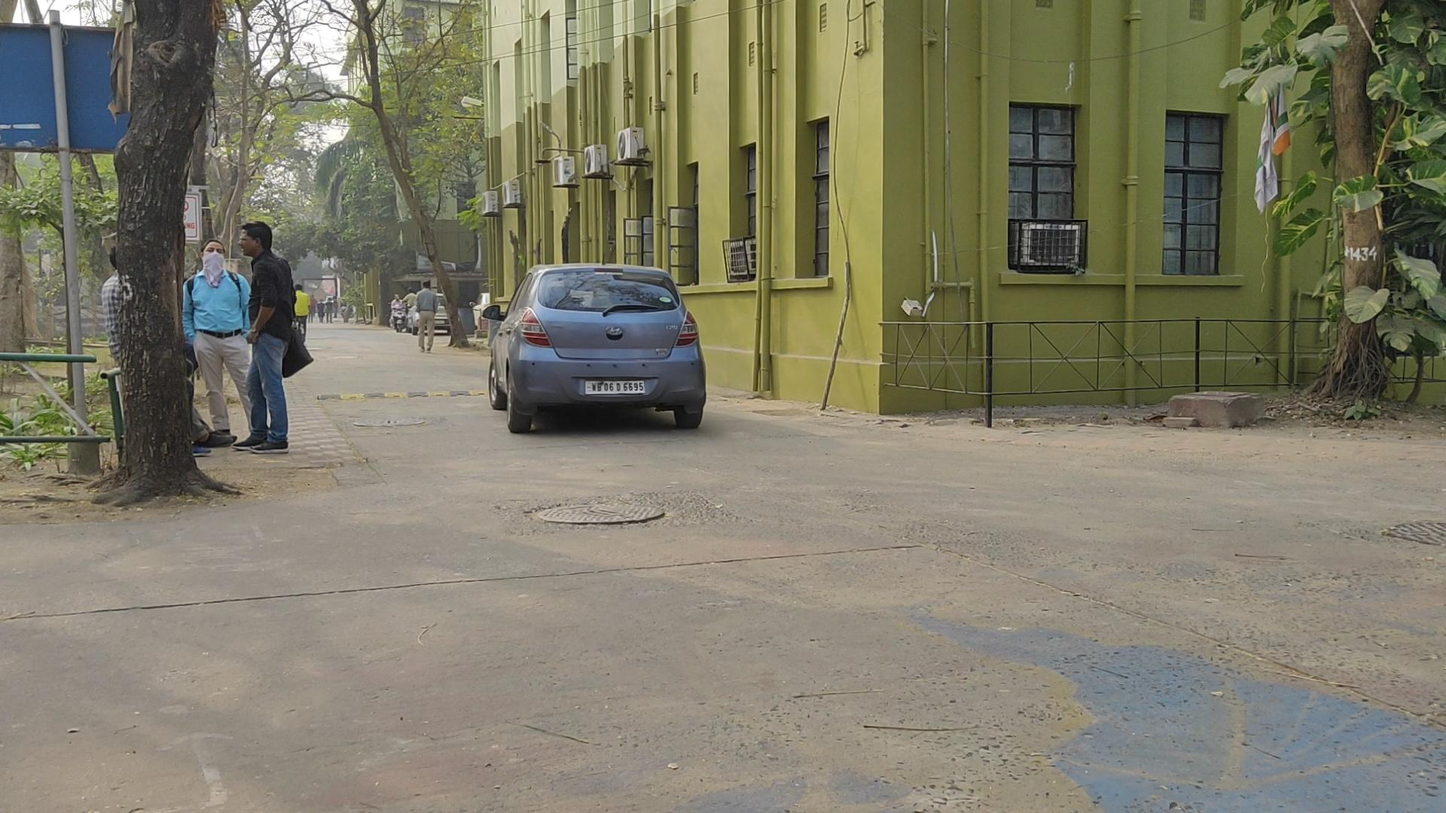bike: (388, 294, 410, 333)
car: (482, 264, 706, 438), (406, 294, 450, 336)
